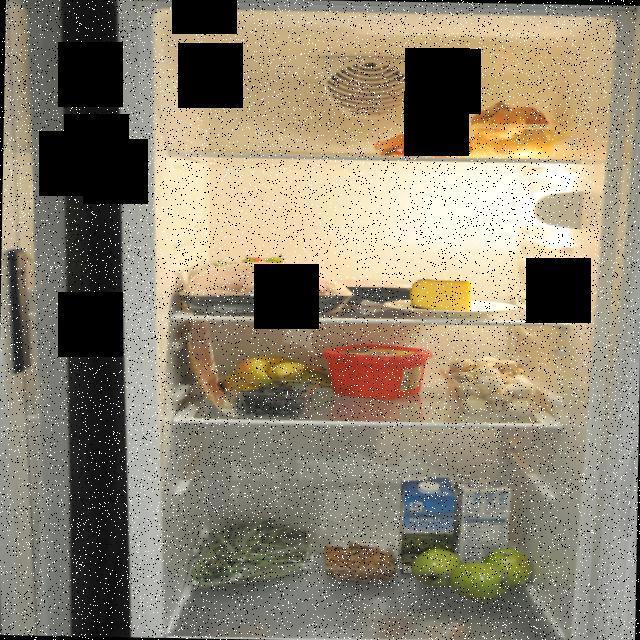Apple: (409, 544, 535, 602)
Banana: (220, 351, 338, 396)
Beans: (192, 518, 320, 590)
Berries strawberries/blueberries: (232, 382, 318, 418)
Butter stick/block: (319, 339, 433, 401)
Carrot: (372, 125, 478, 160)
Cheese: (407, 276, 477, 314)
Chicken: (181, 259, 358, 318)
Ham: (186, 320, 226, 414)
Milk carton/jug: (394, 476, 459, 576), (459, 478, 516, 580)
Mushroom: (434, 356, 540, 418)
Onion: (465, 100, 555, 158)
Shrimp: (324, 537, 396, 581)
